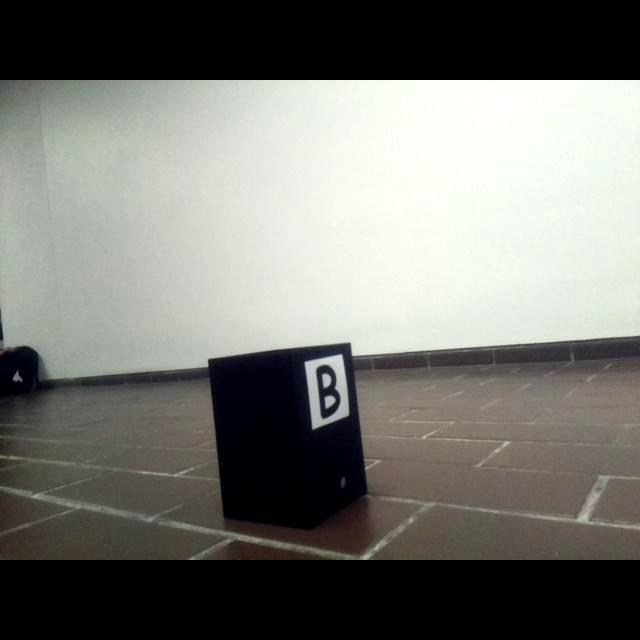B: (315, 365, 341, 419)
